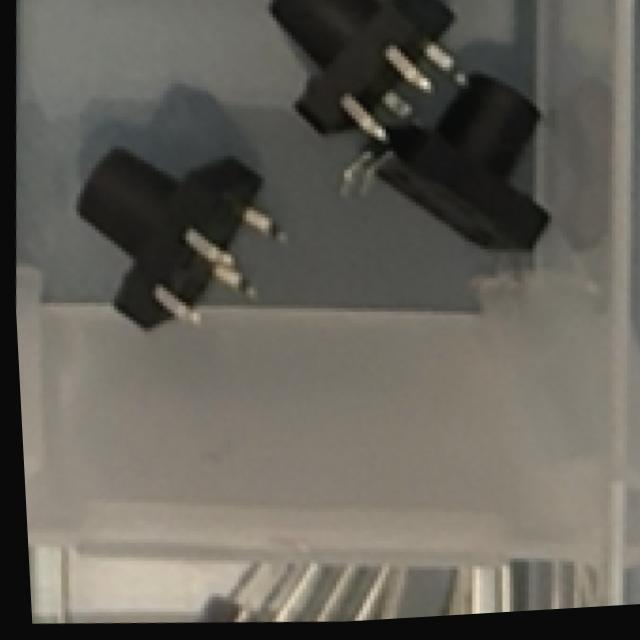Push Button: (62, 127, 293, 348), (330, 62, 559, 271), (264, 0, 472, 147)
